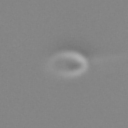normal: (89, 48, 128, 71)
